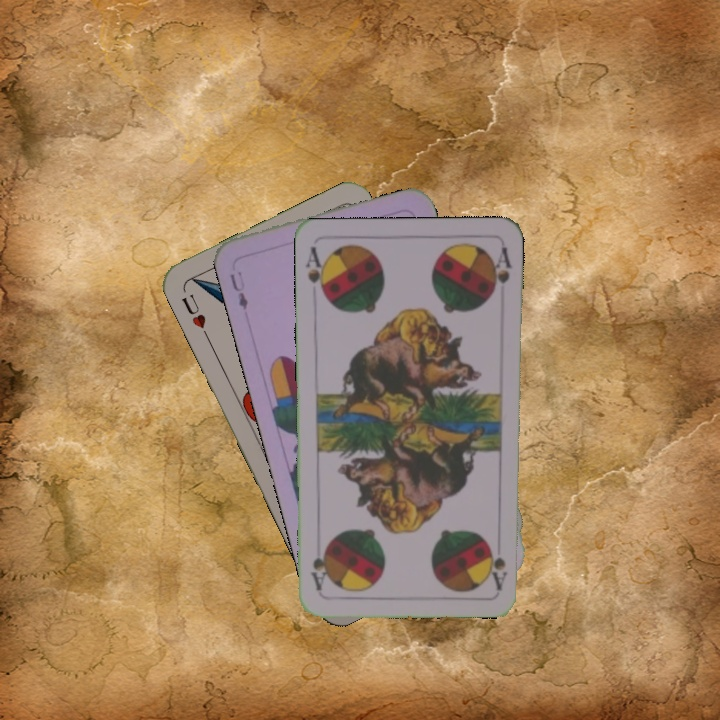EU: (225, 267, 251, 313)
HU: (177, 289, 212, 342)
SA: (302, 244, 329, 302), (490, 553, 509, 591)
